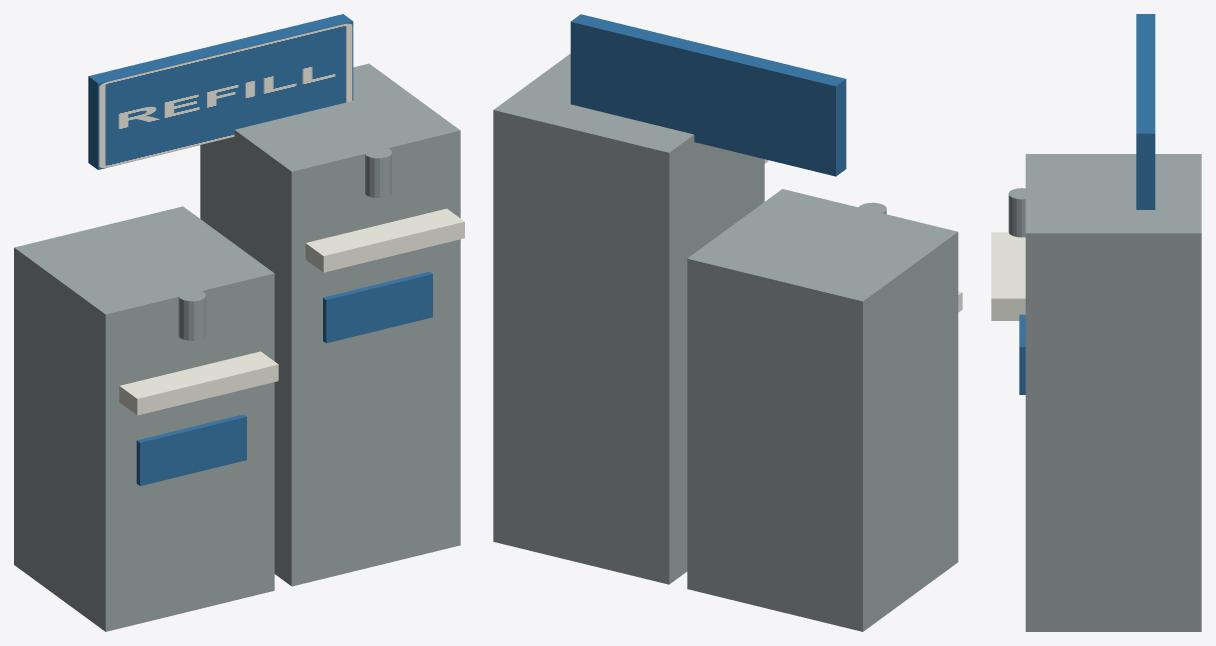
Rendered from scendance-plan-water-refill-station-dual.glb.
3 renders of one model, left to right at view 1: azimuth 30°, elevation 25°; view 2: azimuth 150°, elevation 25°; view 3: azimuth 270°, elevation 25°, orthographic. The views are drawn at different scales.
Bounding box in the file's own units: 1.03 × 1.37 × 0.55.
Materials: 5 (1 with a texture image).
